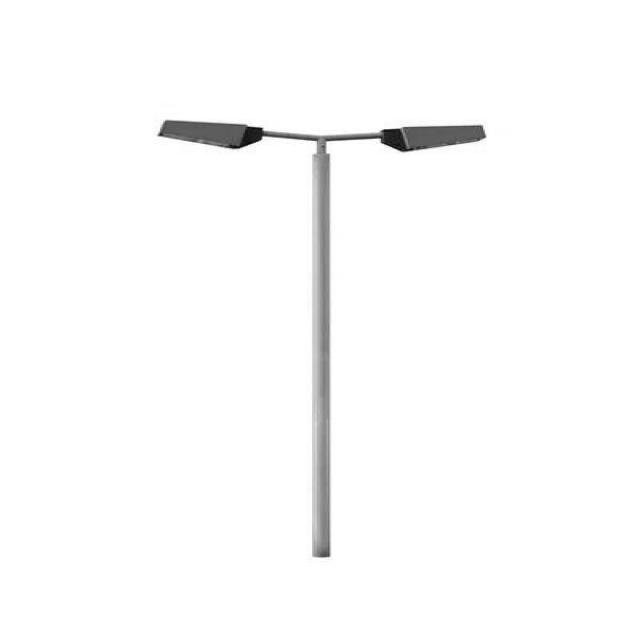Pole: (161, 121, 486, 558)
